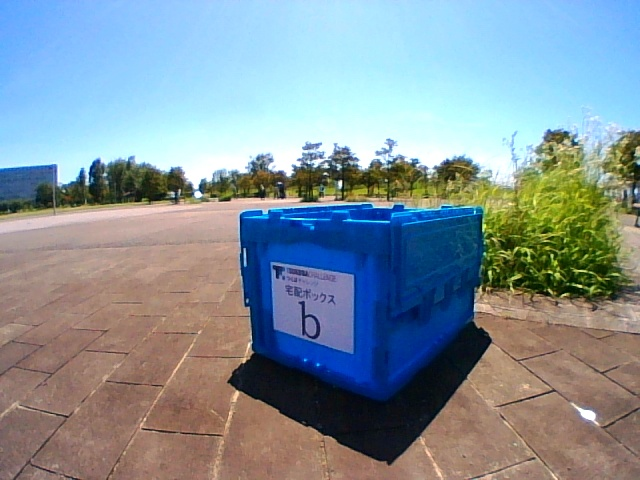blue_box: (242, 206, 478, 355)
tag_b: (286, 280, 353, 338)
